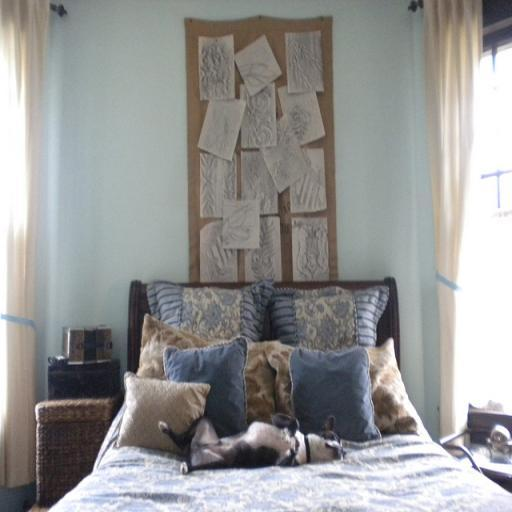bed: (68, 223, 507, 512)
